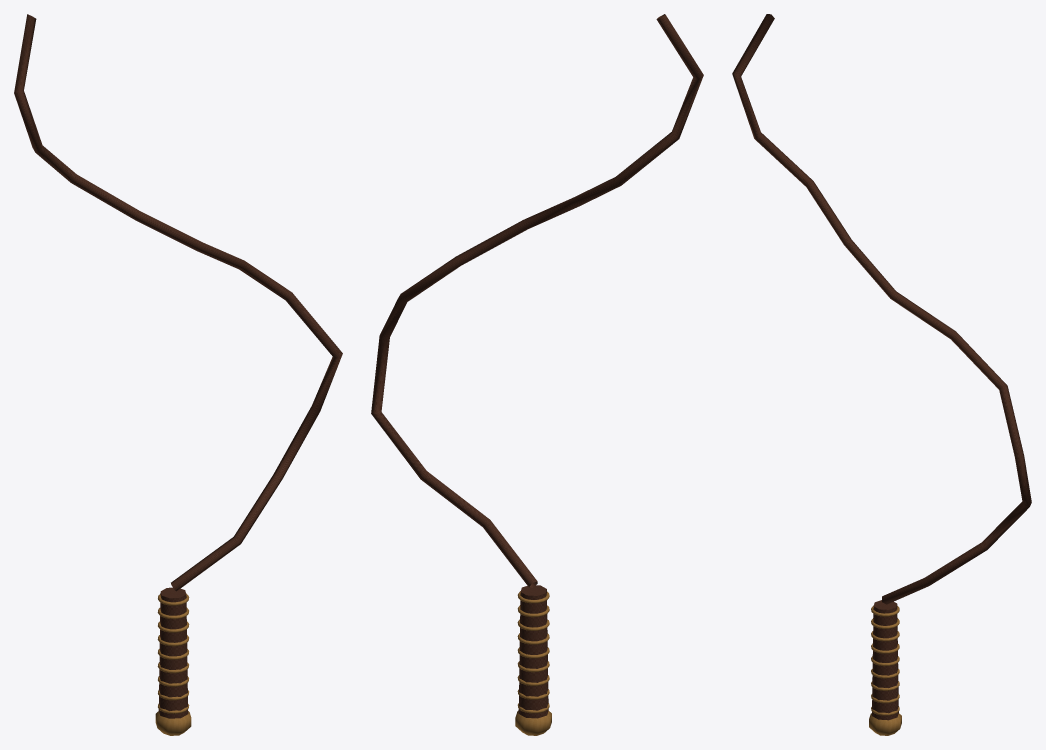
The model's file is whip.lod2.glb.
3 views of the same model, side by side, from view 1: azimuth 30°, elevation 25°; view 2: azimuth 150°, elevation 25°; view 3: azimuth 330°, elevation 25° (orthographic). The views are drawn at different scales.
Parts seen in each view (by area): view 1: leather.11, leather.0, brass.10; view 2: leather.11, leather.0, brass.10; view 3: leather.11, leather.0, brass.10.
Part boxes in pixels (<box>): leather.11: <box>14,14,342,591</box>; leather.0: <box>158,587,188,718</box>; brass.10: <box>155,711,191,735</box>; leather.11: <box>371,14,703,587</box>; leather.0: <box>518,585,548,718</box>; brass.10: <box>515,710,551,735</box>; leather.11: <box>732,14,1031,604</box>; leather.0: <box>872,600,898,720</box>; brass.10: <box>869,713,901,735</box>.
Size of the model in its own units: 0.61 by 1.35 by 0.075.
Materials: 2 (2 with a texture image).
